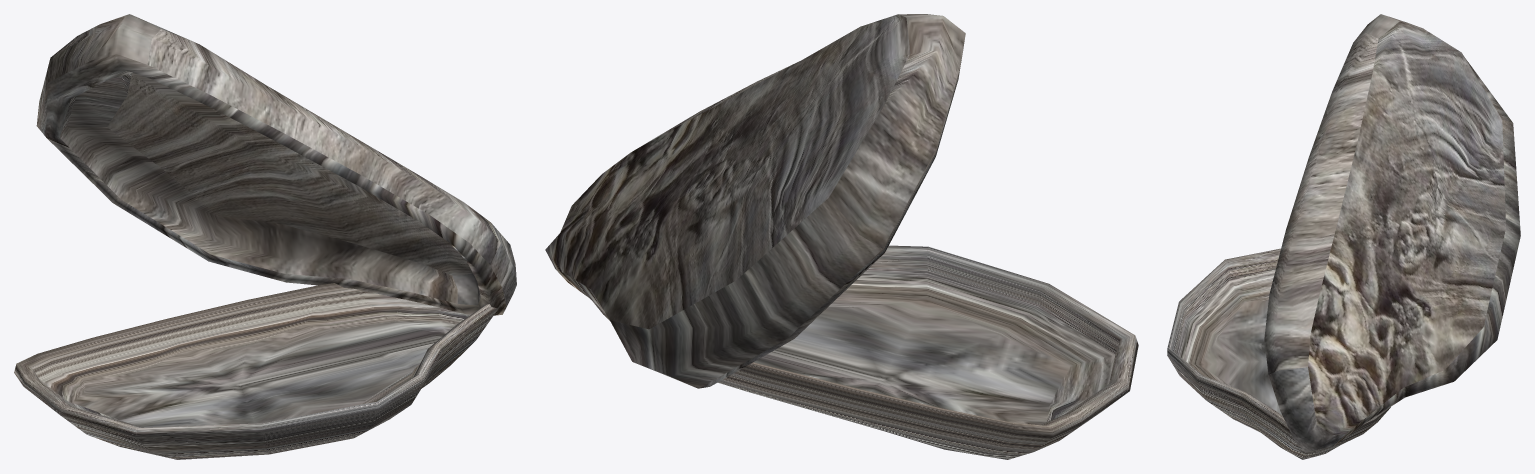
The model's file is oyster.fbx.
3 views of the same model, side by side, from view 1: azimuth 30°, elevation 25°; view 2: azimuth 150°, elevation 25°; view 3: azimuth 270°, elevation 25° (orthographic). The views are drawn at different scales.
Visible parts, largest first — view 1: Shell; view 2: Shell; view 3: Shell.
Boxes of the visible parts, <box> form: Shell: <box>14,14,516,459</box>; Shell: <box>545,14,1138,459</box>; Shell: <box>1167,14,1520,459</box>.
Bounding box in the file's own units: 7.51 × 5.85 × 5.6.
1 material, 1 textured.
